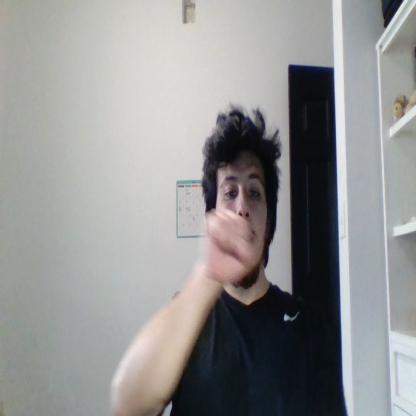S: (200, 210, 254, 282)
